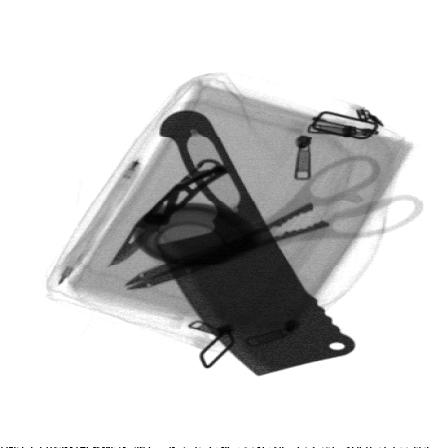Knife: (109, 158, 229, 267)
Scissors: (123, 155, 423, 289)
